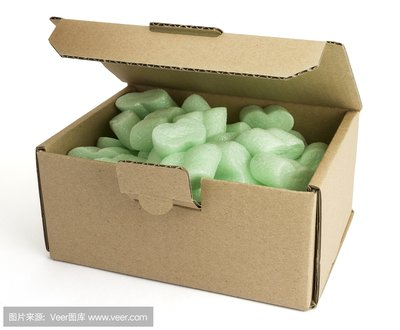5/可回收垃圾/泡沫: (35, 17, 363, 312)
